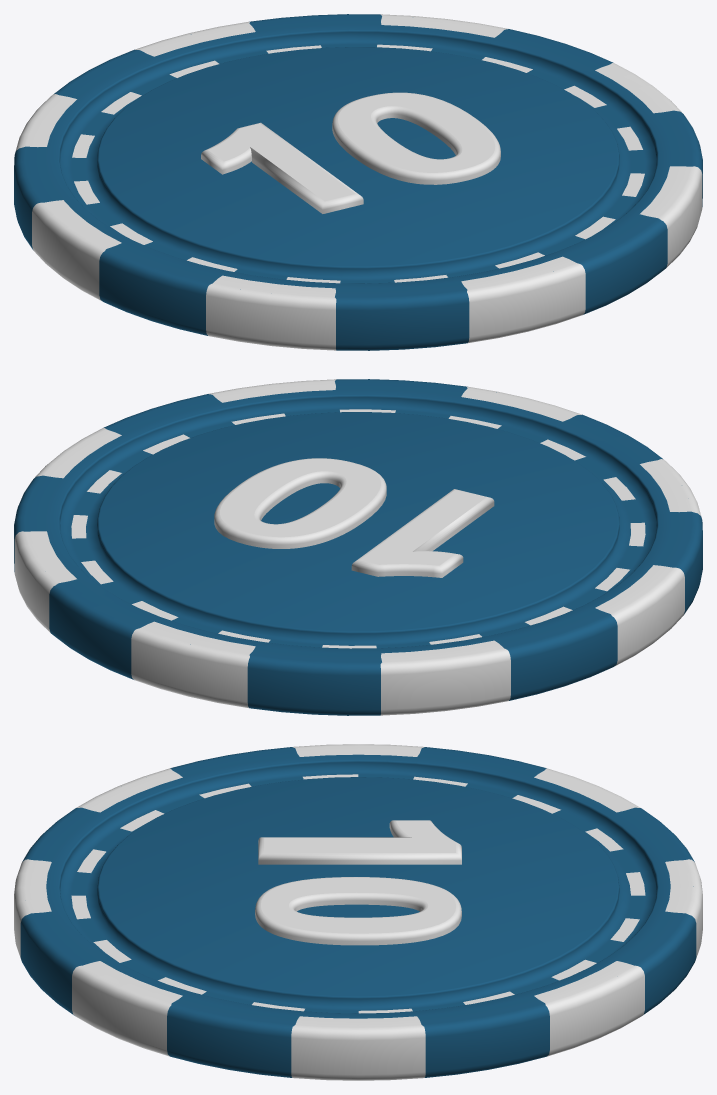
The picture shows the model from 3 angles, top to bottom: view 1: azimuth 30°, elevation 25°; view 2: azimuth 150°, elevation 25°; view 3: azimuth 270°, elevation 25°; orthographic projection.
Visible parts, largest first — view 1: Text.002; view 2: Text.002; view 3: Text.002.
Part boxes in pixels (box(x1,y1,x2,y2)): Text.002: box(14, 14, 702, 350); Text.002: box(14, 379, 702, 715); Text.002: box(14, 744, 702, 1080).
Bounding box in the file's own units: 24 × 2.72 × 24.
